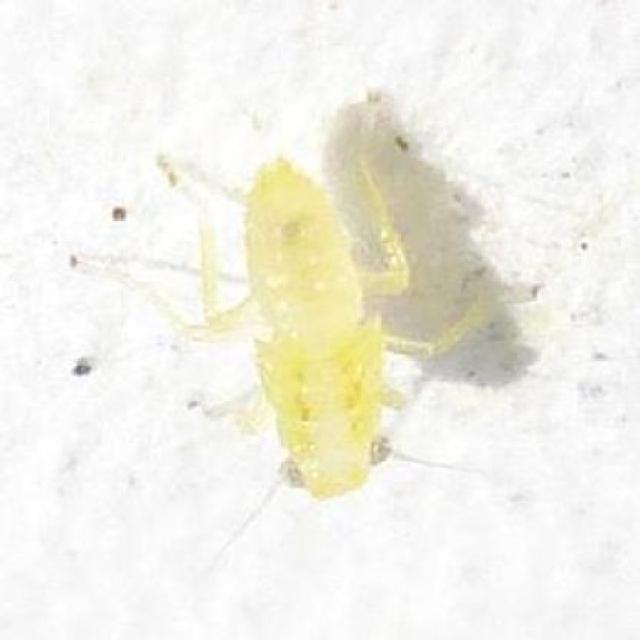green-leafhopper: (211, 146, 427, 497)
